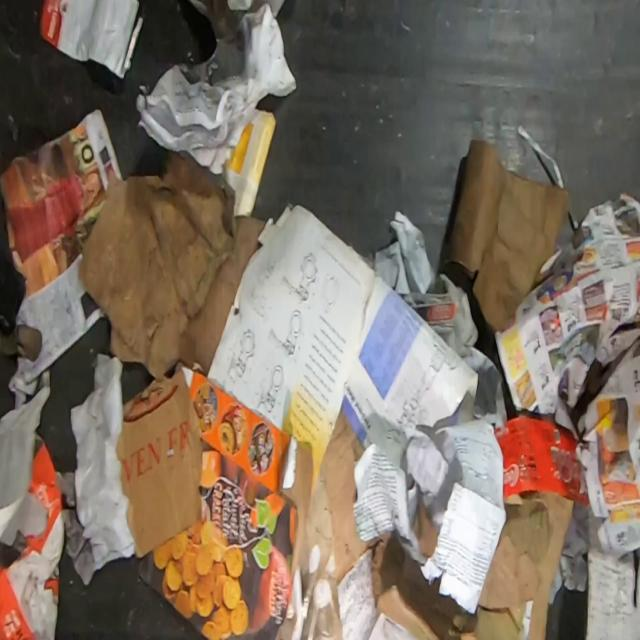cardboard: (75, 148, 267, 558), (276, 409, 574, 640), (138, 359, 313, 640), (445, 137, 569, 332), (0, 440, 65, 640), (494, 411, 590, 508)
